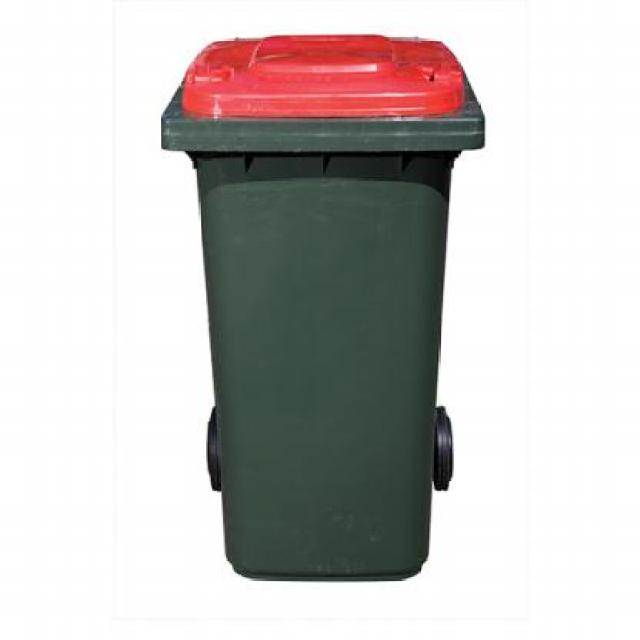garbage container: (145, 22, 493, 615)
